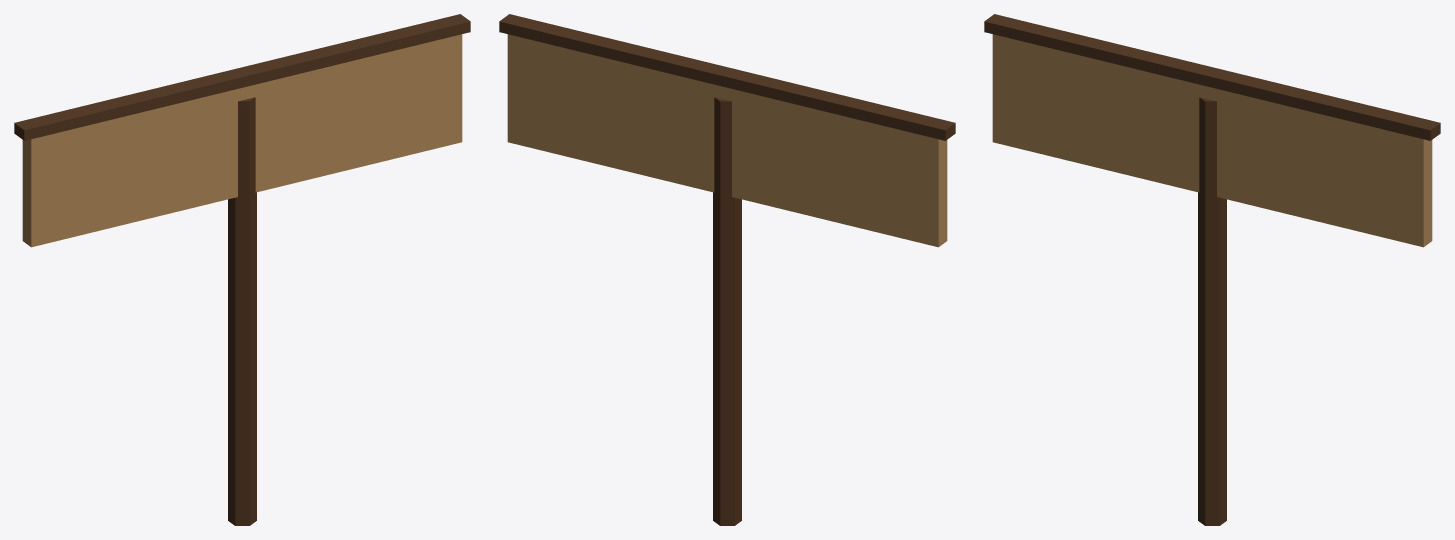
The model's file is signboard.glb.
3 views of the same model, side by side, from view 1: azimuth 30°, elevation 25°; view 2: azimuth 150°, elevation 25°; view 3: azimuth 330°, elevation 25° (orthographic).
Parts seen in each view (by area): view 1: signboard; view 2: signboard; view 3: signboard.
Part boxes in pixels (left/top/right/bottom): signboard: left=14, top=14, right=470, bottom=525; signboard: left=499, top=14, right=955, bottom=525; signboard: left=984, top=14, right=1440, bottom=525.
Bounding box in the file's own units: 1.76 × 1.69 × 0.1.
